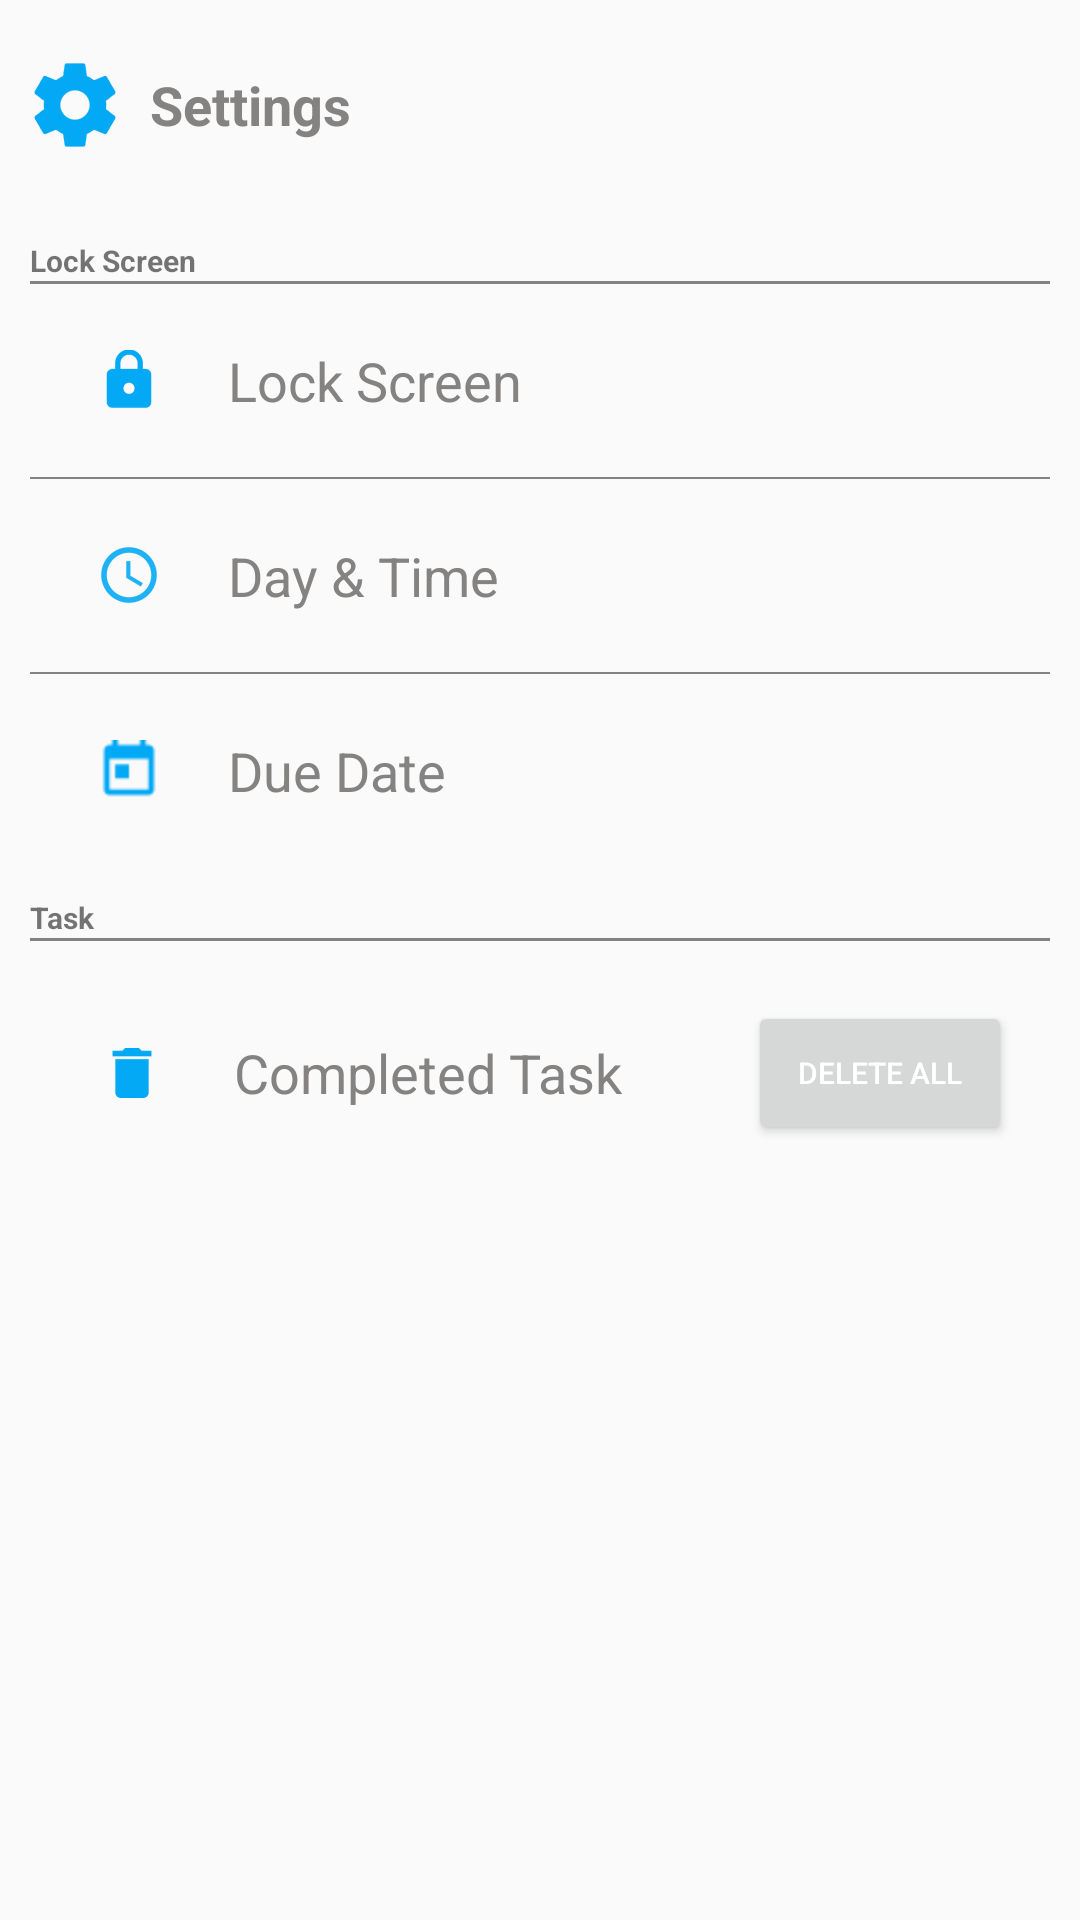

Point at icon controls on the screen. Image size 1080px x 1920px, points as [x,y].
remove: [132,1073]
